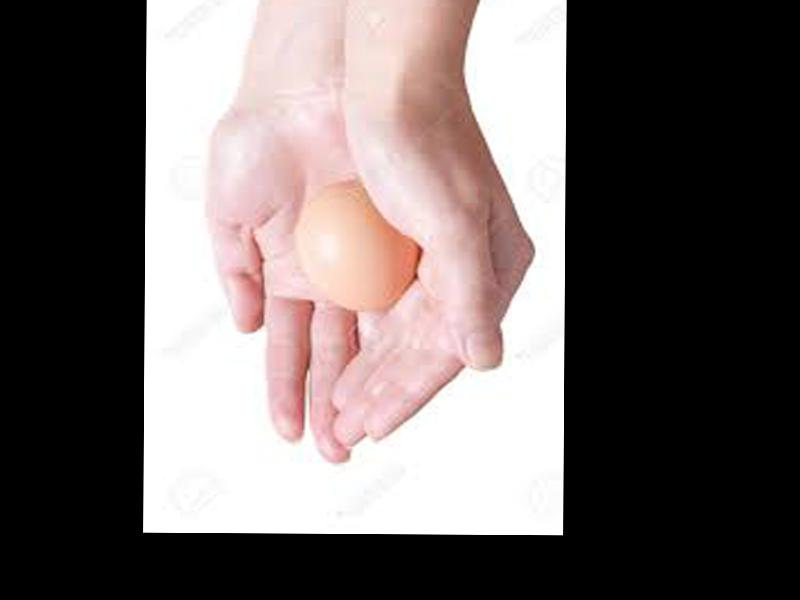Eggs: (301, 187, 416, 310)
